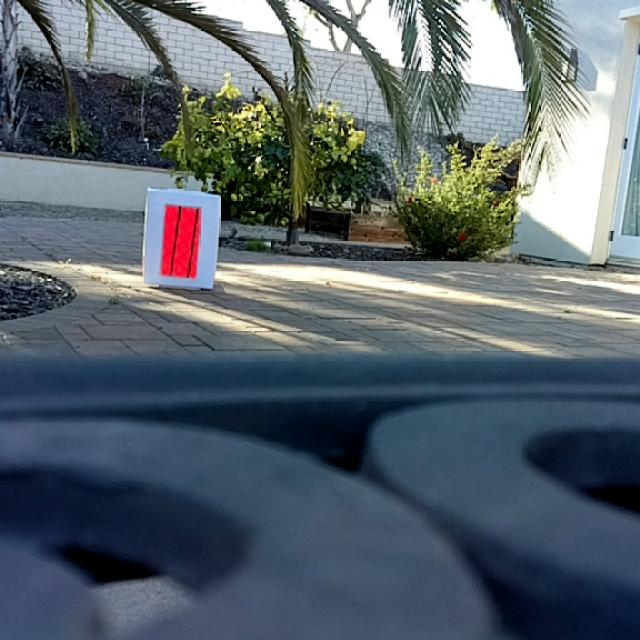led: (161, 203, 201, 281)
